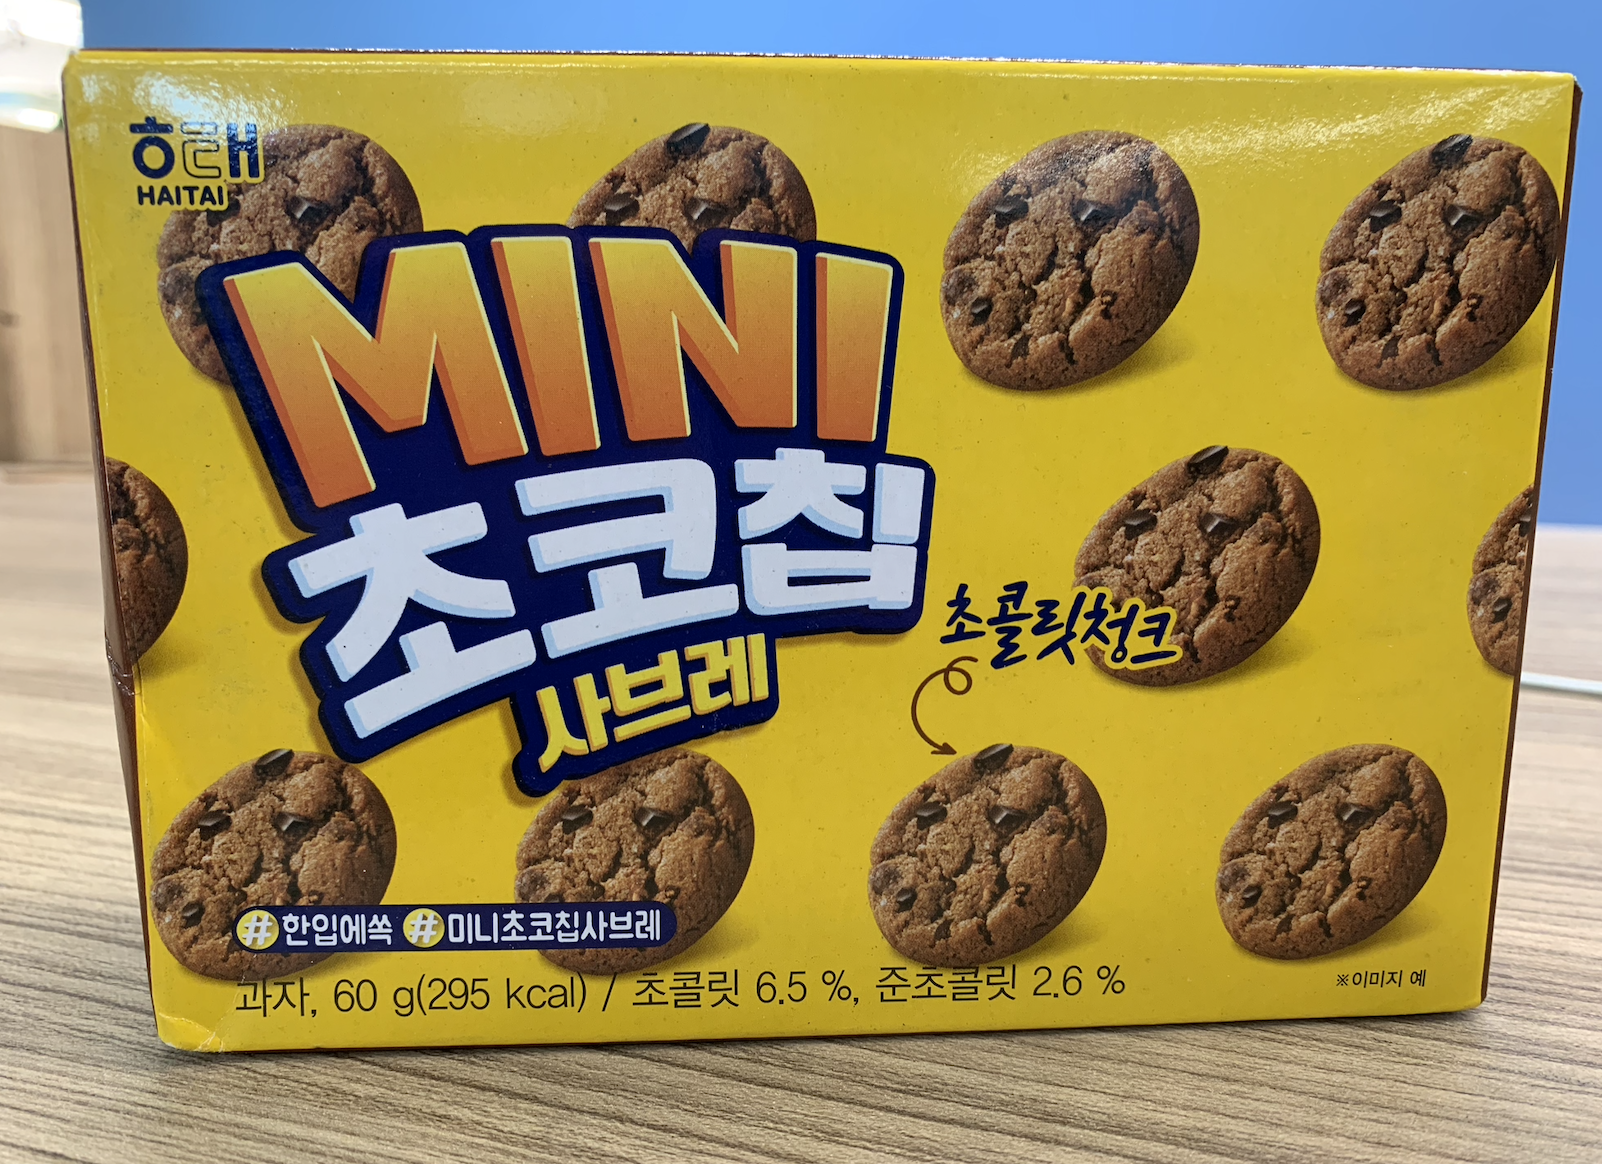cookies_1g-99g: (127, 77, 1459, 1017)
